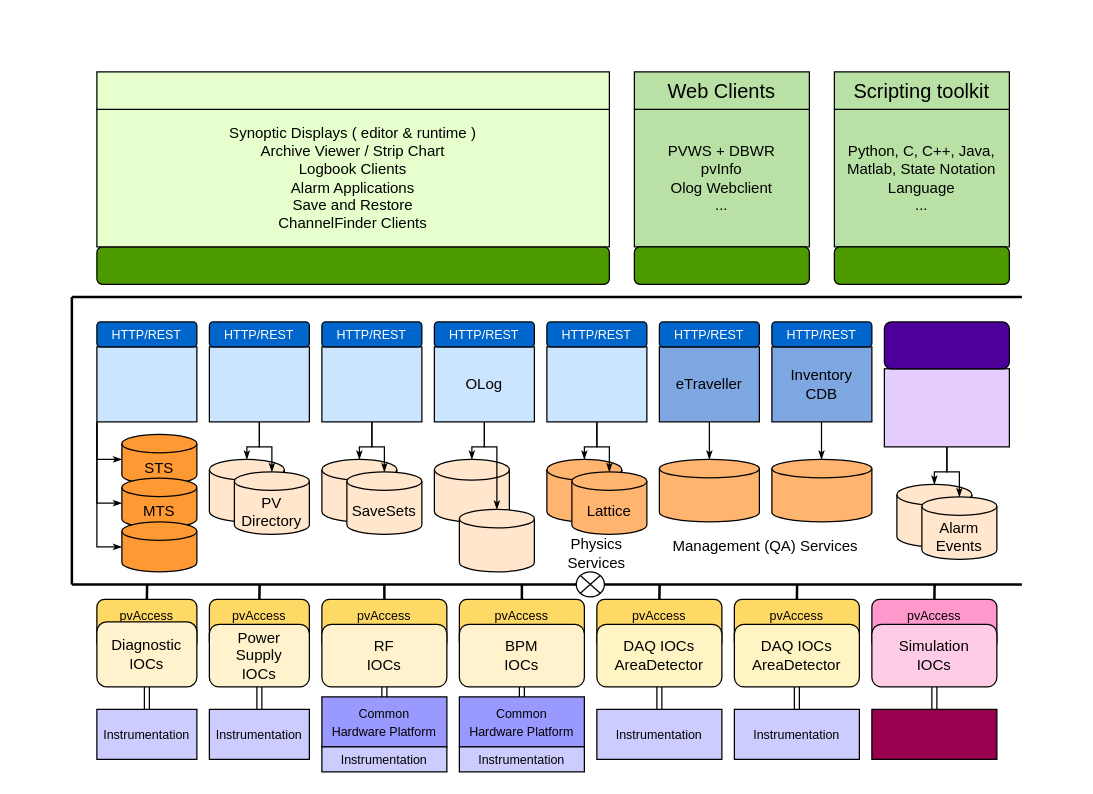
Some shapes in this 1093 by 794 pixel diagram are drawn without their labels. Here are the shapes that lost their labels. From the top down, the centre of each, then its label:
At [352,90]: "CS-Studio: Phoebus".
At [352,265]: "pvAccess/CA/... clients + HTTP clients + Kafka subscriptions".
At [721,265]: "HTTP/websockets".
At [921,265]: "pvAccess/CA/HTTP".
At [946,345]: "Kafka Message Bus".
At [146,384]: "Archiver Appliance".
At [258,384]: "Channel Finder".
At [371,384]: "Save Restore".
At [596,384]: "Model Server".
At [946,407]: "Alarm Services Aggregation, Logging, Notification".
At [471,490]: "Files".
At [708,490]: "Traveller DB".
At [821,490]: "Component DB".
At [159,546]: "LTS".
At [496,540]: "Logs".
At [934,733]: "Simulations".
